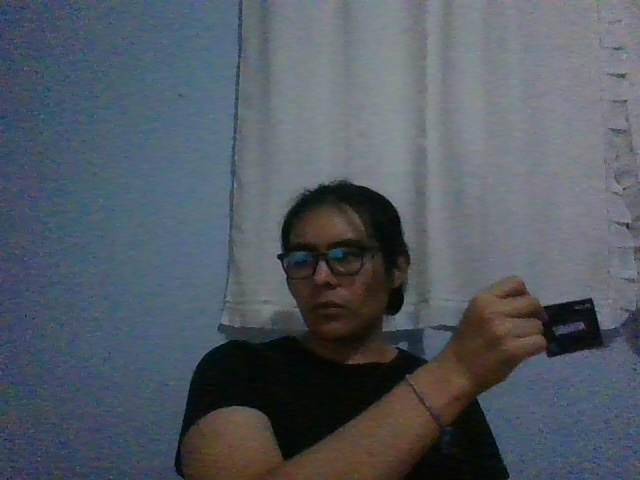tarjeta: (541, 297, 604, 358)
